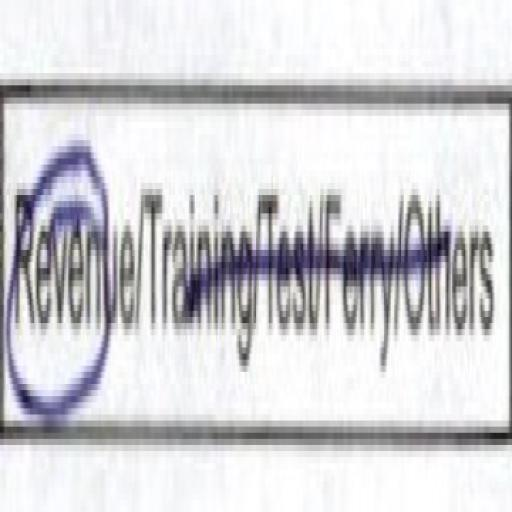check: (0, 13, 137, 512)
